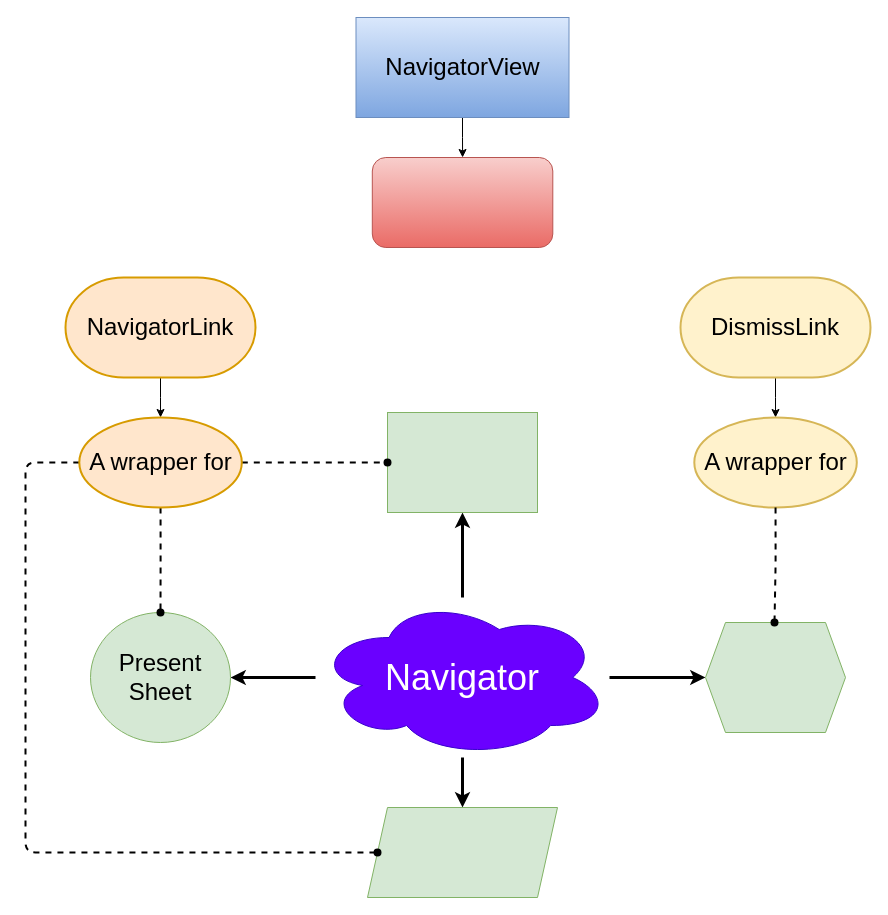
Some shapes in this 888 by 915 pixel diagram are drawn without their labels. Each missing label, with the box of its shape:
Dismiss View: (704, 622, 846, 732)
Present Full sheet: (366, 806, 558, 898)
Push View: (386, 412, 538, 512)
The navigation root: (371, 156, 553, 248)
